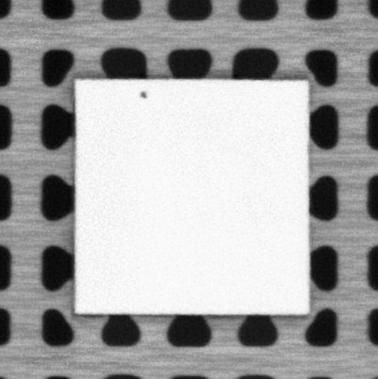DIE_INK: (139, 89, 148, 100)
